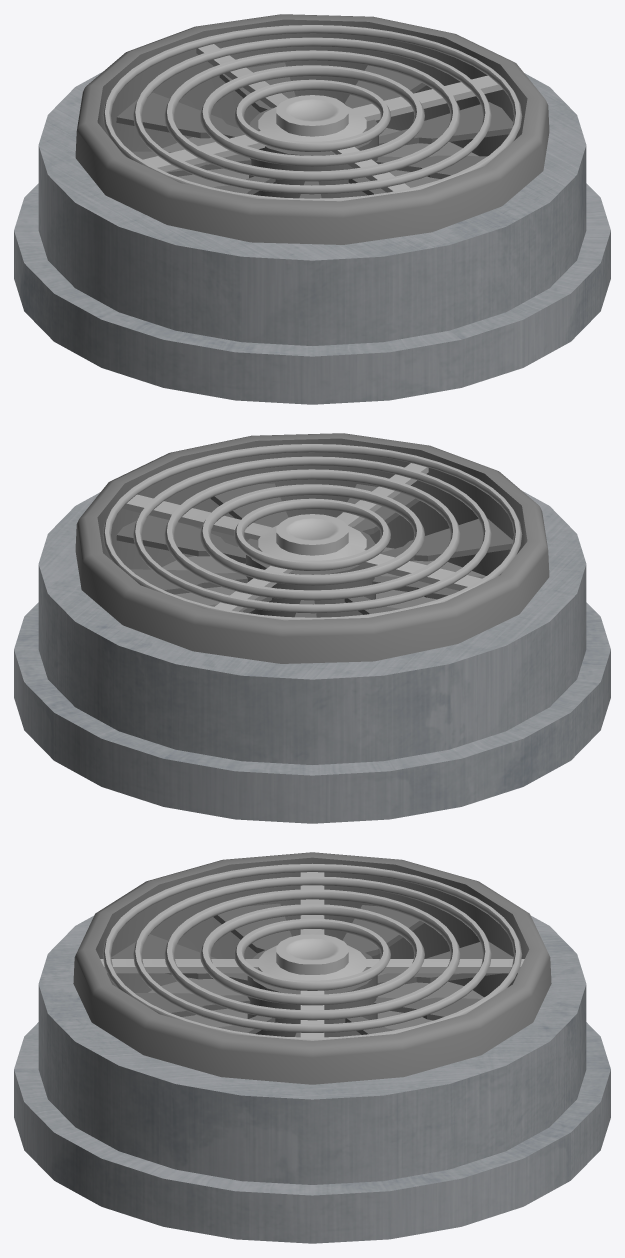
The picture shows the model from 3 angles, top to bottom: view 1: azimuth 30°, elevation 25°; view 2: azimuth 150°, elevation 25°; view 3: azimuth 270°, elevation 25°; orthographic projection.
Visible parts, largest first — view 1: Cube.344_dmg.001, Cylinder.001; view 2: Cube.344_dmg.001, Cylinder.001; view 3: Cube.344_dmg.001, Cylinder.001.
Part boxes in pixels (<box>): Cube.344_dmg.001: <box>14,14,610,404</box>; Cylinder.001: <box>116,62,512,198</box>; Cube.344_dmg.001: <box>14,433,610,823</box>; Cylinder.001: <box>116,483,512,617</box>; Cube.344_dmg.001: <box>14,852,610,1243</box>; Cylinder.001: <box>111,903,513,1037</box>.
Size of the model in its own units: 289 by 89.9 by 289.
